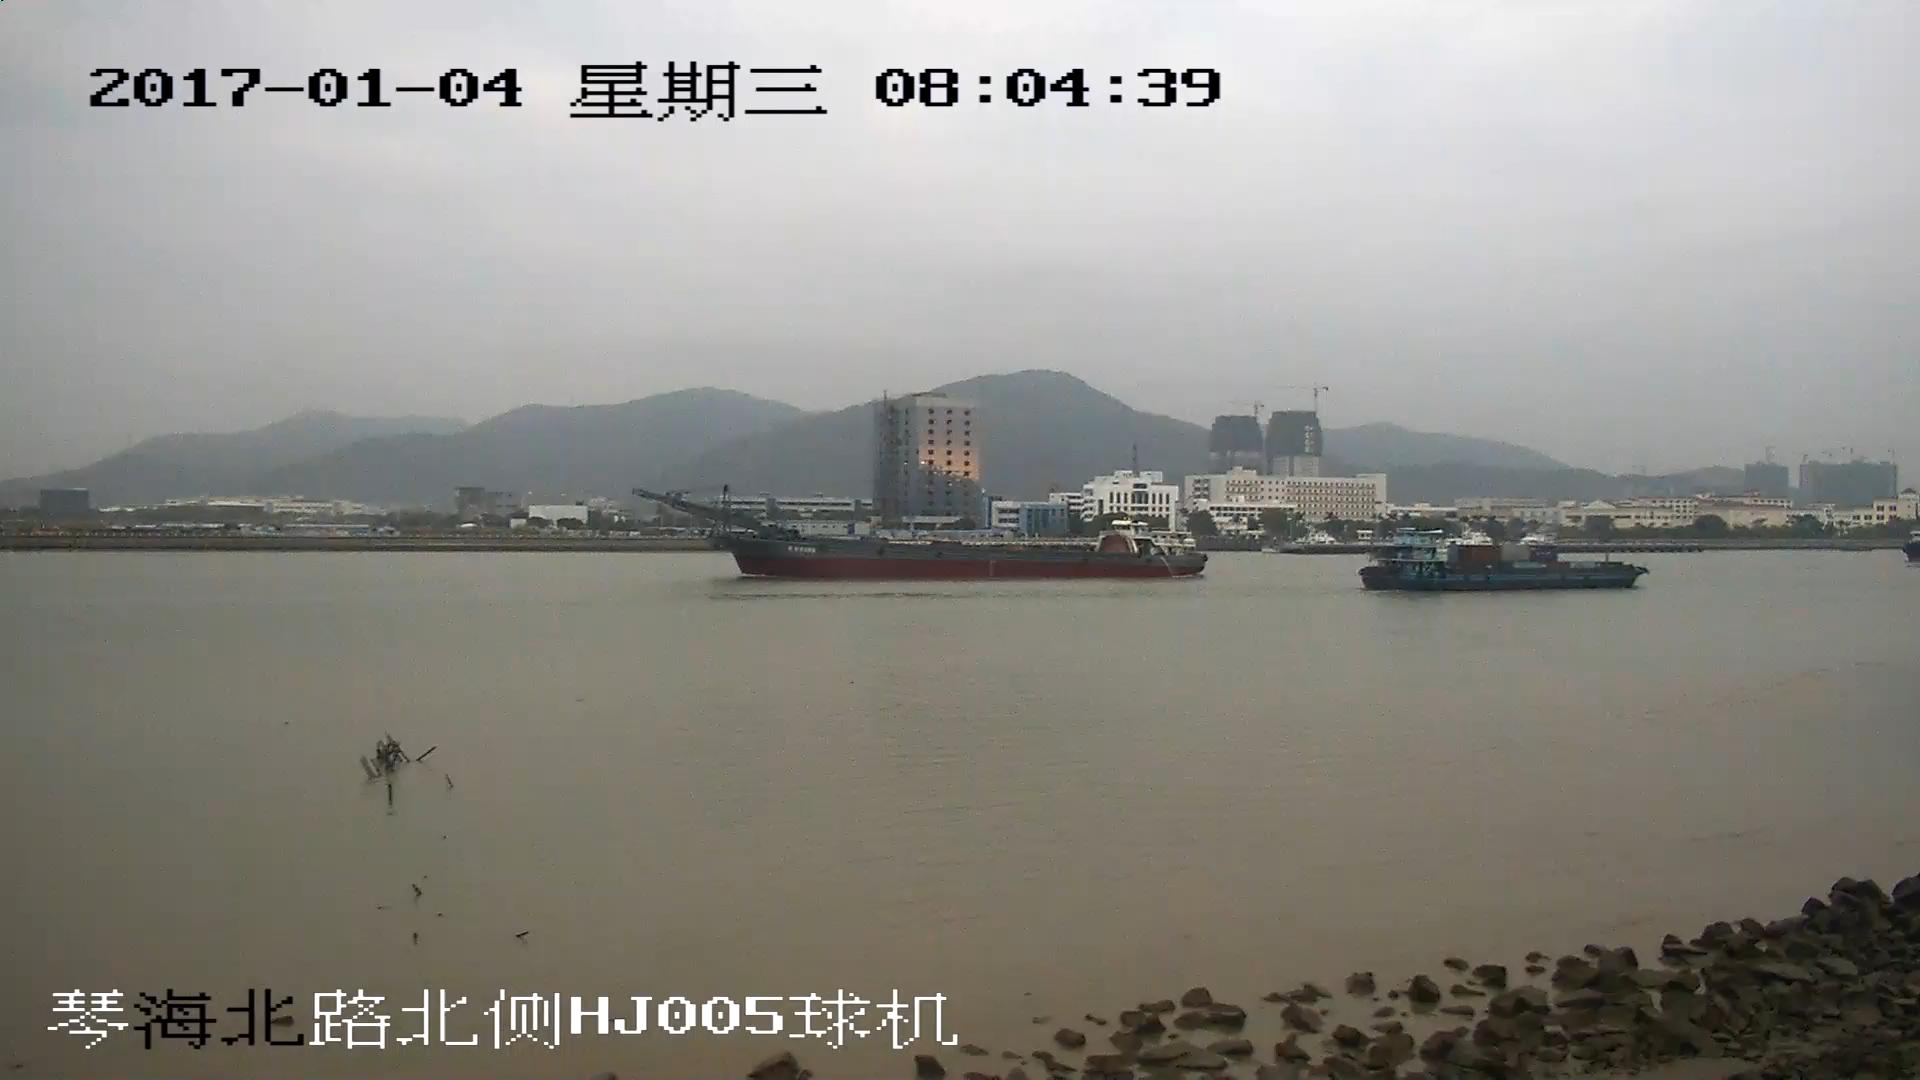bulk cargo carrier: (638, 487, 1206, 578)
container ship: (1360, 529, 1645, 593)
